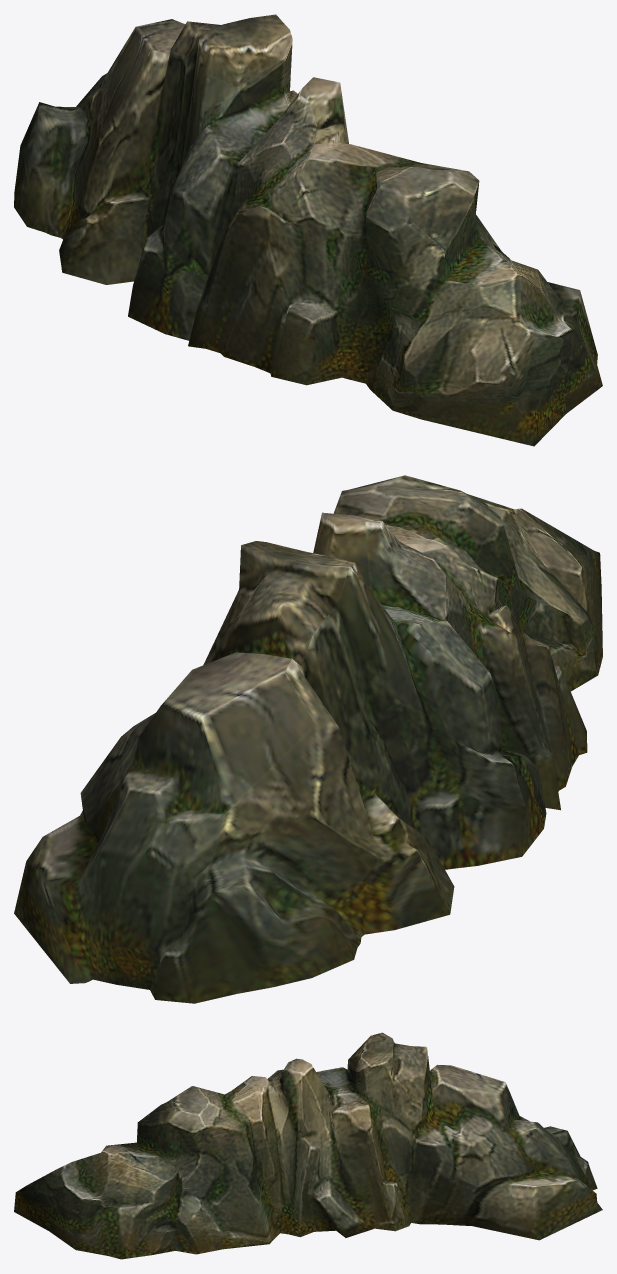
File: qys_suishi01.FBX
3 views of the same model, one above another, from view 1: azimuth 30°, elevation 25°; view 2: azimuth 150°, elevation 25°; view 3: azimuth 270°, elevation 25° (orthographic). The views are drawn at different scales.
Parts seen in each view (by area): view 1: qys_suishi01; view 2: qys_suishi01; view 3: qys_suishi01.
Part boxes in pixels (x1,y1,x2,y2): qys_suishi01: [14, 14, 602, 446]; qys_suishi01: [14, 475, 602, 1003]; qys_suishi01: [14, 1032, 602, 1259].
Bounding box in the file's own units: 23.38 × 16.2 × 54.57.
